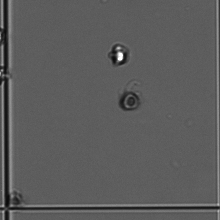Dead Cell: (120, 92, 142, 112), (7, 188, 25, 209)
Living Cell: (108, 43, 131, 67)
